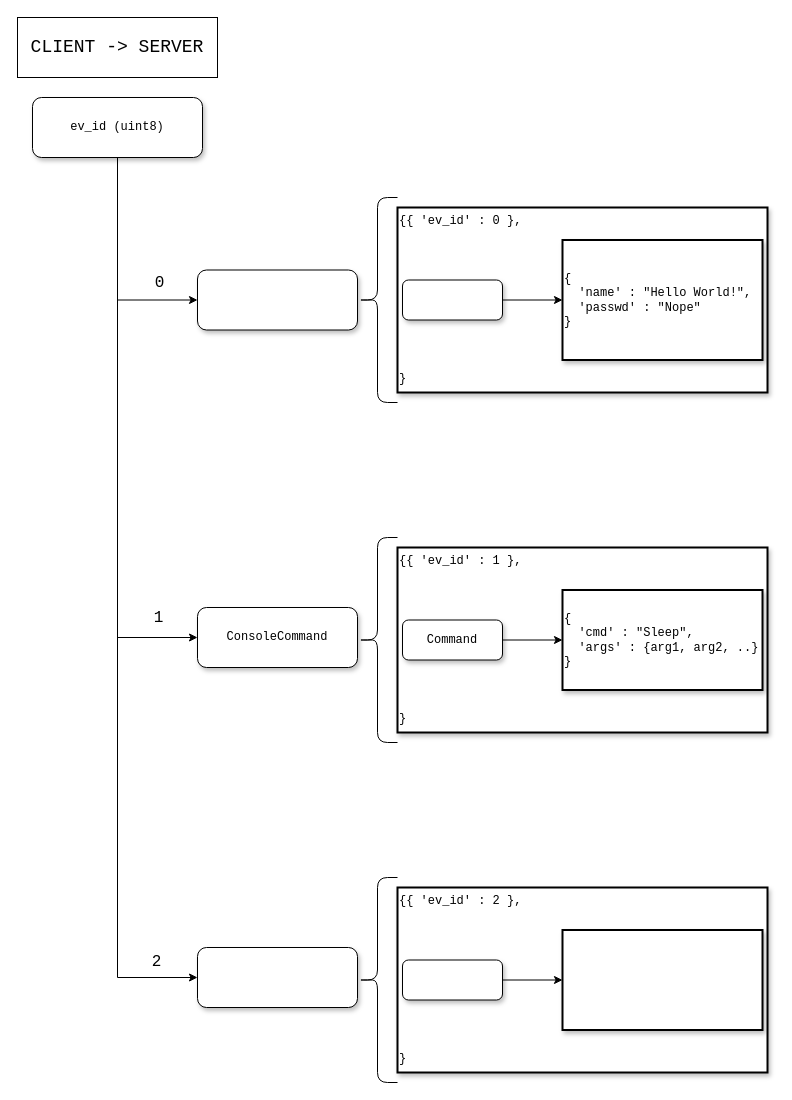
Image size: 792x1100. Some labels were removed from this diagram. Here are the shapes that lost their labels. From the top down, the centre of each, then its label:
At point (278, 301): "Initialize".
At point (453, 301): "Player".
At point (278, 978): "Move".
At point (453, 981): "Movement".
At point (663, 981): "{ 'action' : START, 'direction' : UP }".
